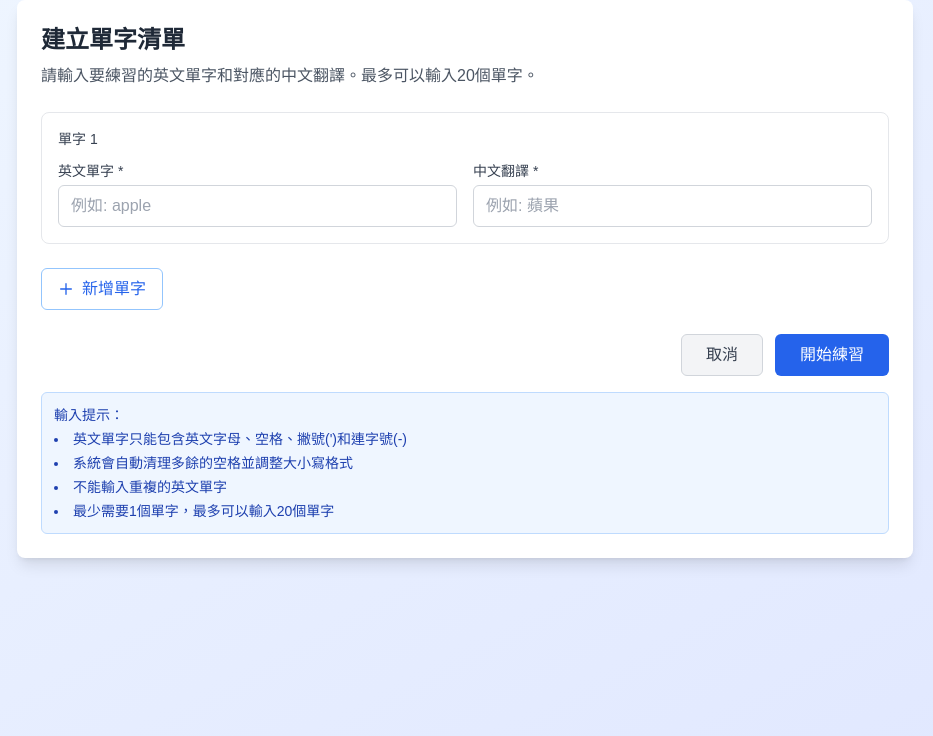
Scenario: WordListInput › allows adding new word inputs
Click the button "新增單字". click: x=102, y=289
box: [41,268,163,310]
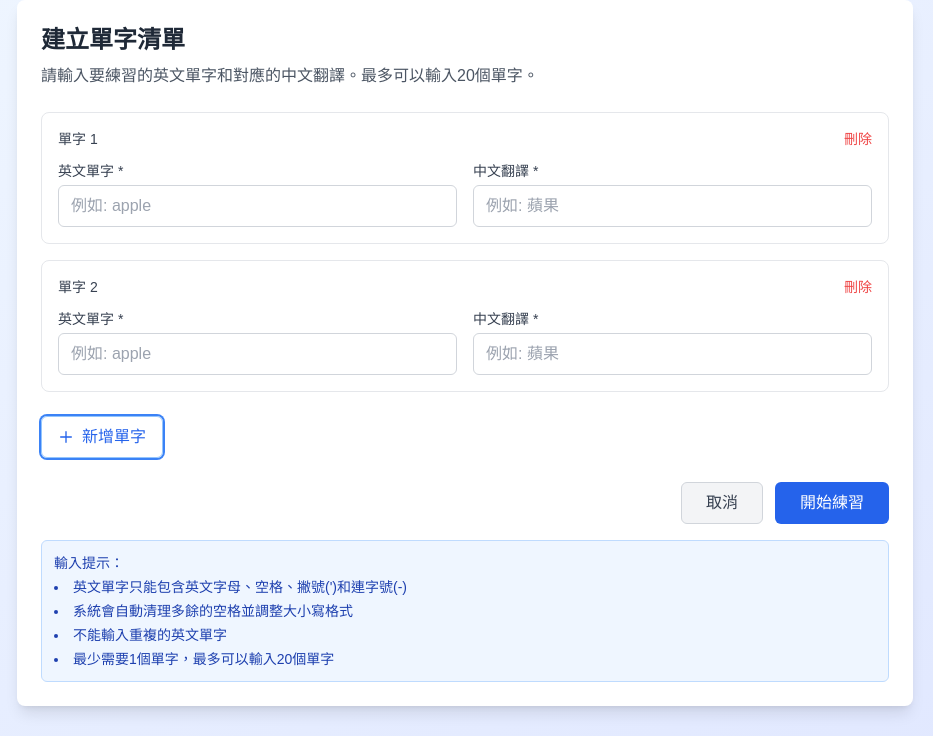
Expected: the text "單字 2" is shown, [58,277,98,297]
